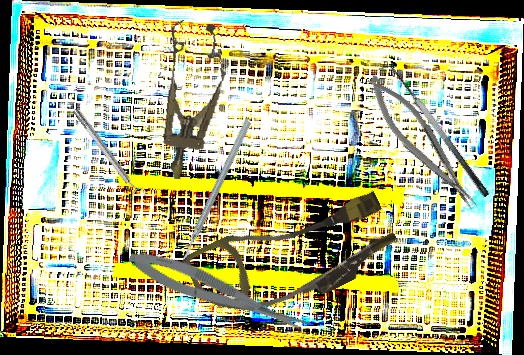Cannula: (181, 169, 405, 344)
Chopper: (138, 118, 297, 271)
Fixation Ring: (68, 103, 149, 205)
Micro Scissor: (124, 240, 313, 346)
Needle Holder: (358, 66, 485, 221)
Spatula Surgical: (377, 57, 491, 206)
Speculum: (145, 17, 233, 185)
